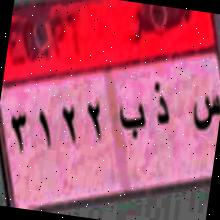1: (32, 98, 59, 156)
2: (80, 94, 110, 152), (58, 96, 82, 150)
3: (2, 102, 34, 161)
baa: (116, 94, 148, 146)
seen: (187, 87, 220, 142)
zaal: (148, 73, 174, 137)
